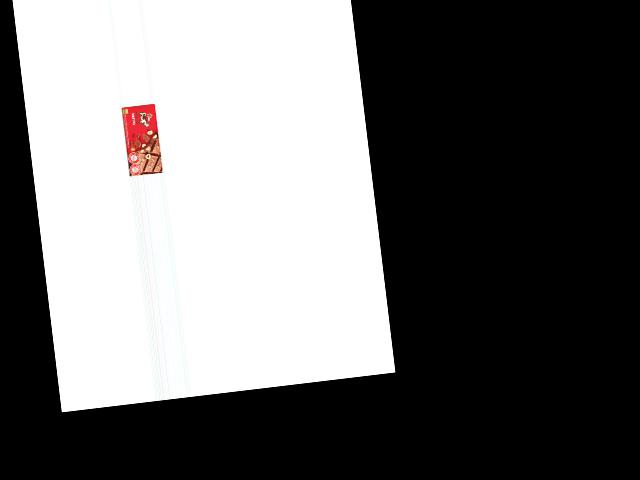chocolate: (120, 103, 163, 176)
